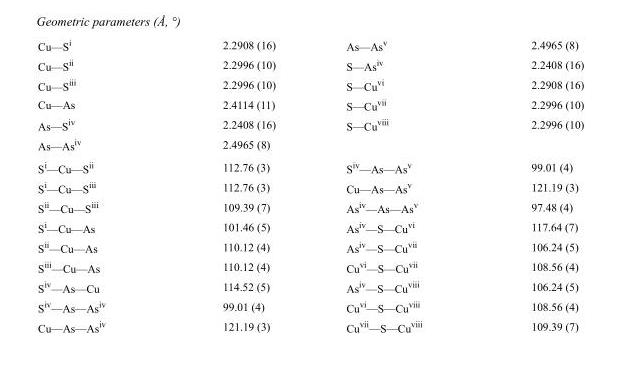table: (37, 36, 583, 333)
table column: (310, 36, 476, 333), (163, 36, 310, 333), (37, 36, 163, 333), (476, 36, 583, 333)
table row: (37, 134, 583, 155), (37, 155, 583, 176), (37, 54, 583, 74), (37, 74, 583, 94), (37, 94, 583, 114), (37, 114, 583, 134), (37, 176, 583, 196), (37, 196, 583, 216), (37, 216, 583, 236), (37, 236, 583, 256), (37, 256, 583, 276), (37, 276, 583, 296), (37, 296, 583, 316), (37, 36, 583, 54), (37, 316, 583, 333)
